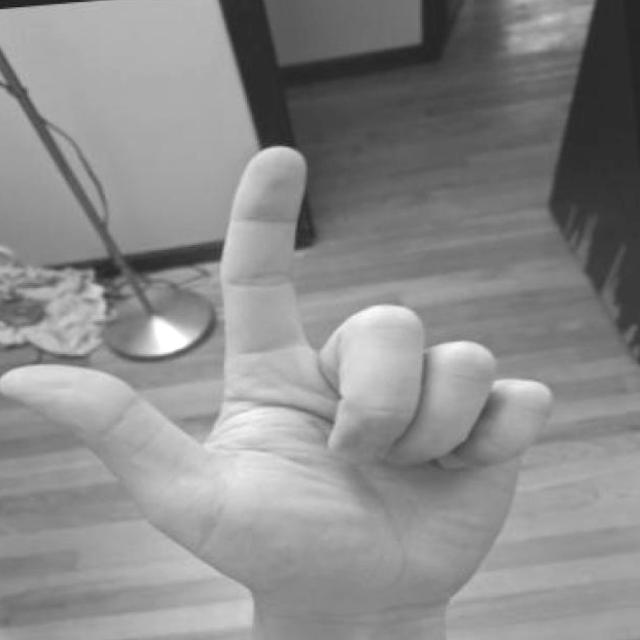L: (0, 138, 559, 640)
